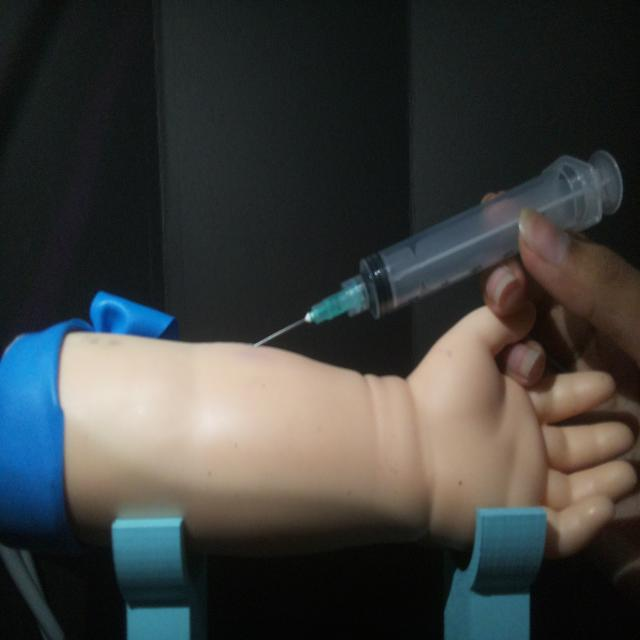25deg: (248, 143, 626, 352)
